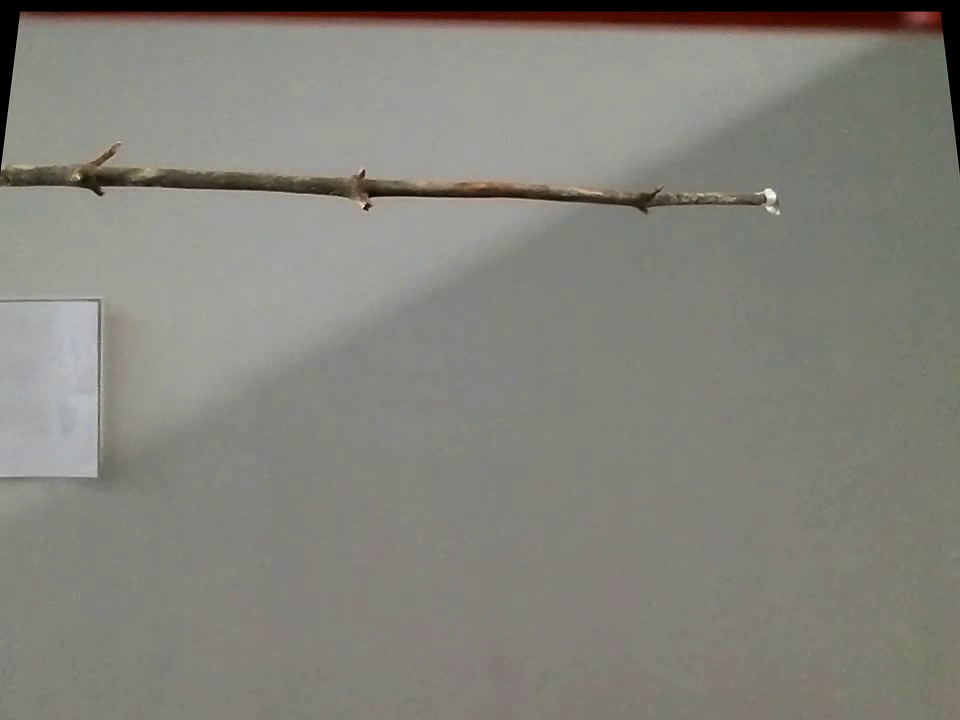branch: (1, 133, 745, 222)
